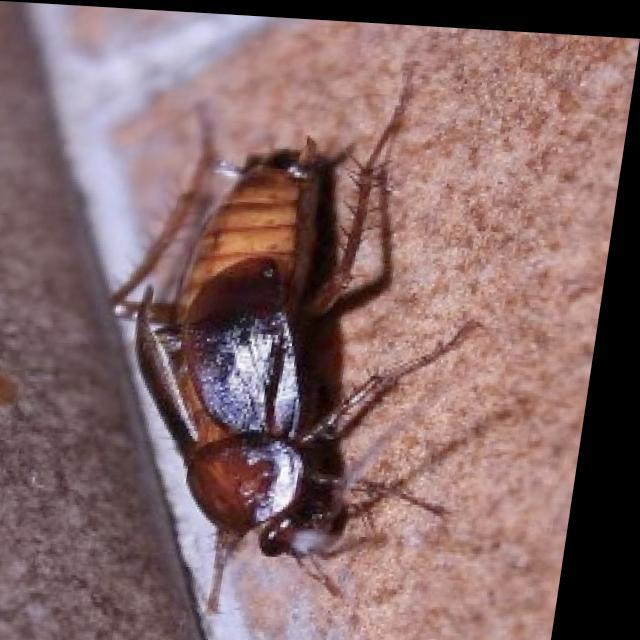cockroach: (106, 61, 489, 616)
